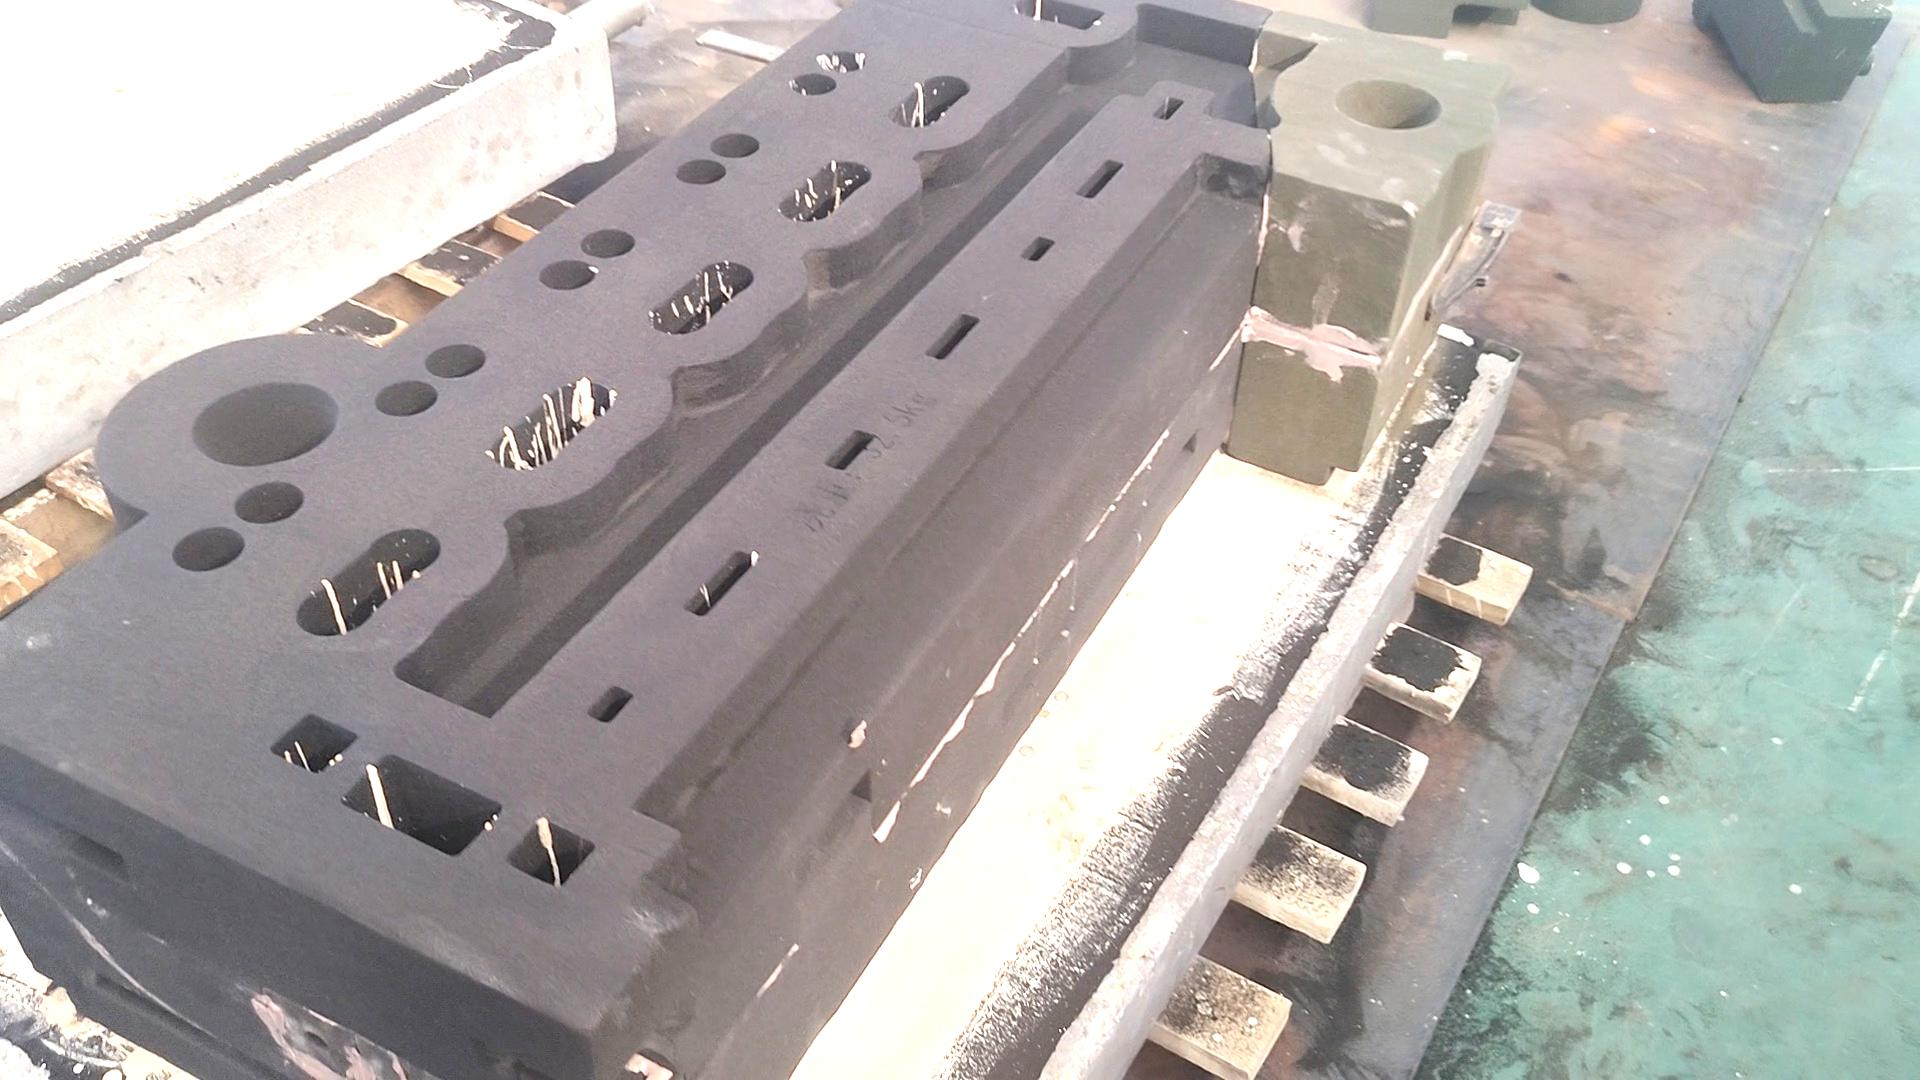pouring hole: (191, 382, 340, 467), (1333, 80, 1443, 129)
